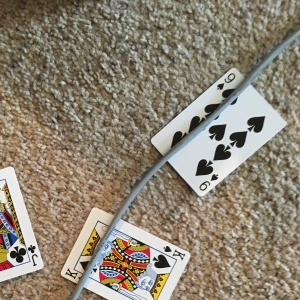card: (151, 67, 286, 196)
